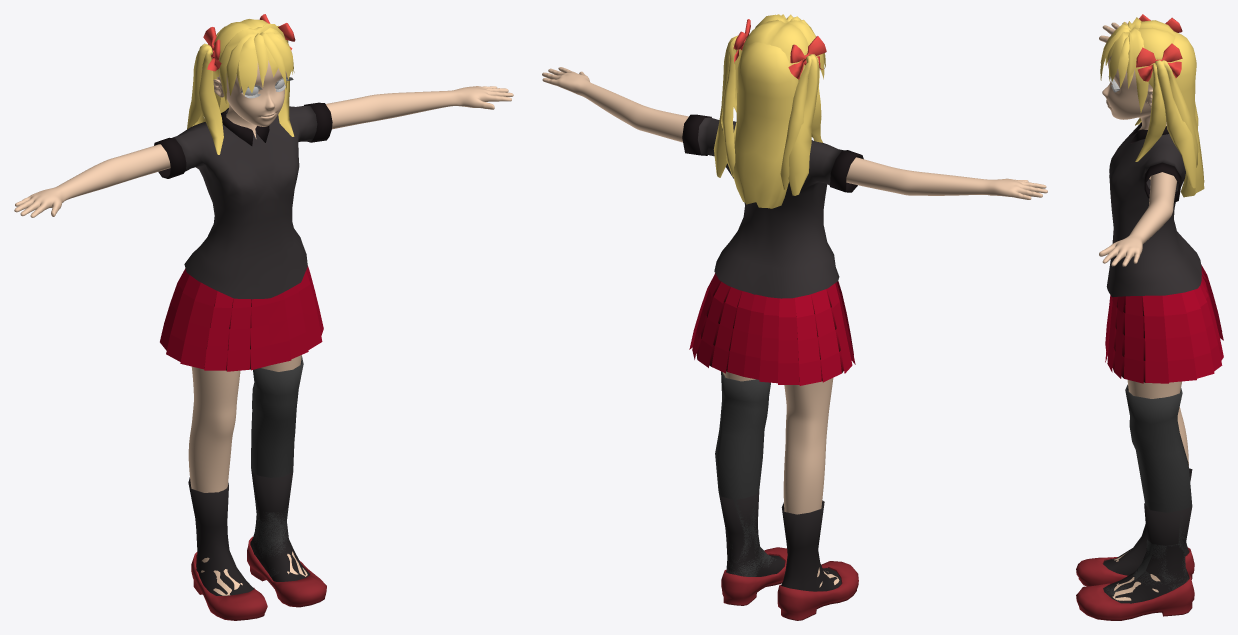
Rendered from humanoid.fbx.
The picture shows the model from 3 angles, left to right: view 1: azimuth 30°, elevation 25°; view 2: azimuth 150°, elevation 25°; view 3: azimuth 270°, elevation 25°; orthographic projection.
Parts seen in each view (by area): view 1: Shirt, Body, Skirt, Socks, Stockings, Fronthair, Shoes, Twintails, Tophair; view 2: Skirt, Body, Shirt, Backhair, Stockings, Twintails, Socks, Shoes, Tophair; view 3: Skirt, Shirt, Stockings, Body, Socks, Twintails, Shoes, Fronthair, Backhair, Tophair.
Boxes of the visible parts, x1,y1,x2,y2 form: Shirt: [154, 102, 332, 299]; Body: [14, 60, 513, 595]; Skirt: [160, 265, 323, 371]; Socks: [188, 468, 309, 595]; Stockings: [250, 356, 303, 576]; Fronthair: [219, 23, 294, 103]; Shoes: [191, 536, 326, 620]; Twintails: [187, 14, 295, 154]; Tophair: [211, 19, 268, 79]; Skirt: [689, 273, 855, 385]; Body: [542, 67, 1047, 587]; Shirt: [682, 114, 863, 298]; Backhair: [733, 42, 798, 208]; Stockings: [715, 371, 776, 576]; Twintails: [713, 19, 826, 195]; Socks: [718, 491, 841, 591]; Shoes: [721, 547, 858, 620]; Tophair: [740, 19, 808, 81]; Skirt: [1105, 265, 1223, 383]; Shirt: [1106, 122, 1201, 297]; Stockings: [1106, 384, 1192, 596]; Body: [1099, 22, 1188, 600]; Socks: [1103, 468, 1192, 603]; Twintails: [1135, 14, 1198, 188]; Shoes: [1076, 547, 1194, 620]; Fronthair: [1100, 17, 1148, 112]; Backhair: [1173, 31, 1204, 197]; Tophair: [1138, 20, 1175, 87].
Size of the model in its own units: 137 by 151 by 35.36.
